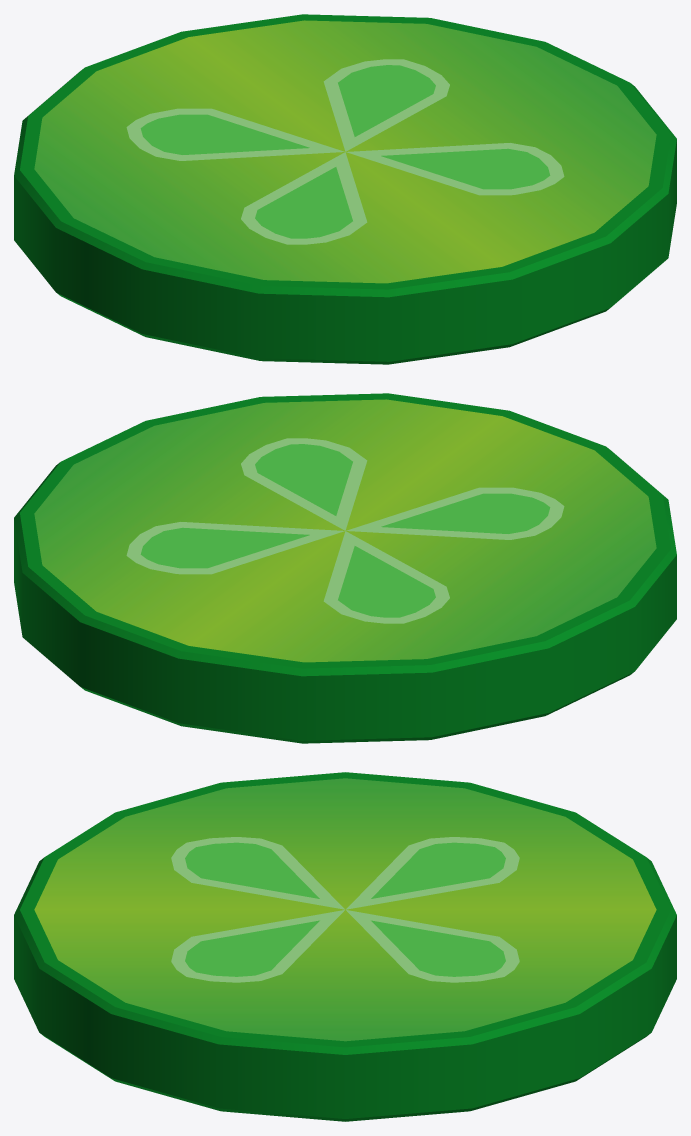
Rendered from Picule_slice.fbx.
3 renders of one model, top to bottom at view 1: azimuth 30°, elevation 25°; view 2: azimuth 150°, elevation 25°; view 3: azimuth 270°, elevation 25°, orthographic.
Parts seen in each view (by area): view 1: Picule_slice; view 2: Picule_slice; view 3: Picule_slice.
Boxes of the visible parts, x1,y1,x2,y2 form: Picule_slice: (14,14,676,364); Picule_slice: (14,393,676,743); Picule_slice: (14,772,676,1121).
Bounding box in the file's own units: 46.86 × 46.86 × 5.8.
